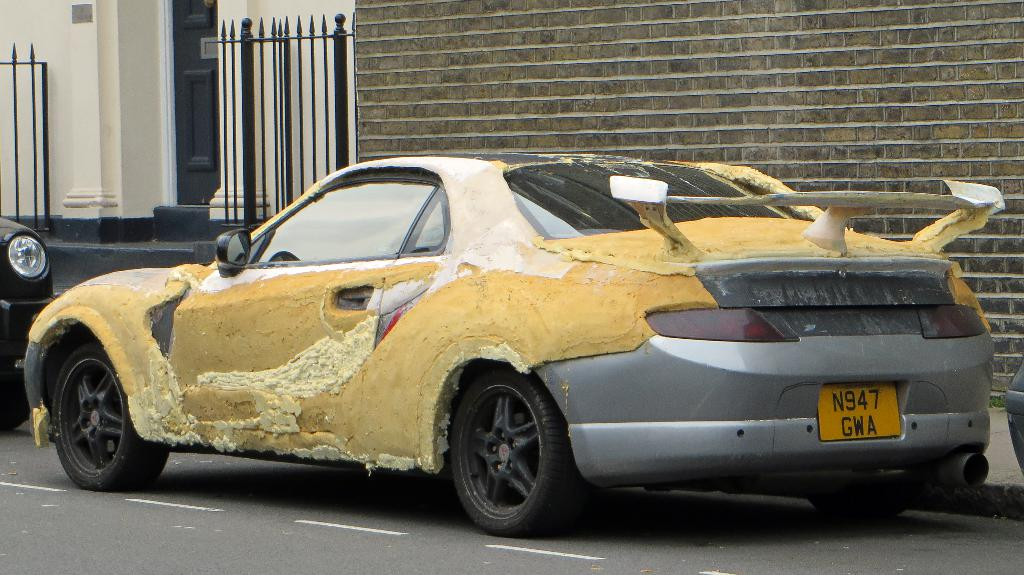license plate: (812, 381, 904, 439)
